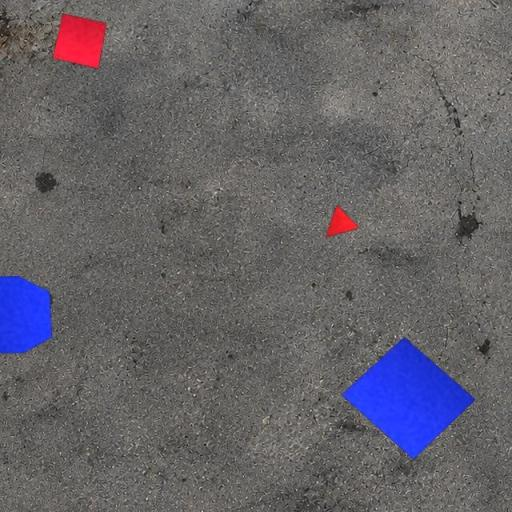BLUE_SQUARE: (341, 336, 477, 460)
RED_SQUARE: (52, 12, 107, 70)
